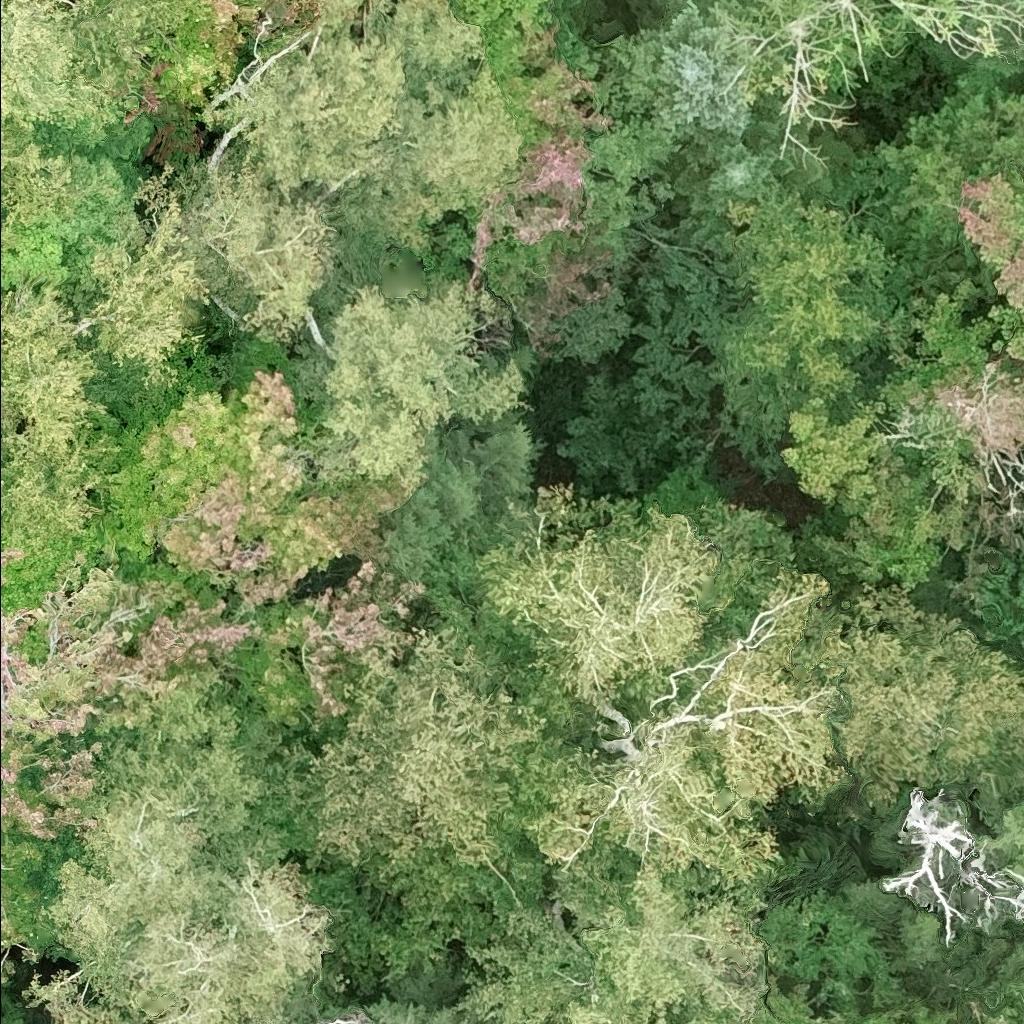crown: (470, 490, 858, 895), (259, 579, 592, 989), (0, 512, 267, 985), (19, 689, 336, 1023), (414, 14, 688, 367), (199, 0, 528, 284), (89, 333, 412, 615), (781, 282, 1023, 589), (453, 863, 840, 1023), (692, 180, 904, 441), (292, 276, 526, 489), (819, 581, 1023, 825), (211, 555, 429, 763), (0, 282, 128, 547), (69, 159, 211, 396), (179, 158, 339, 349), (0, 0, 201, 148), (877, 787, 1023, 951), (149, 0, 320, 118), (755, 886, 910, 1010), (671, 114, 831, 234), (0, 125, 133, 257), (627, 0, 753, 139), (955, 162, 1023, 369), (362, 959, 464, 1023), (958, 936, 1023, 1023), (455, 0, 544, 39), (301, 1008, 373, 1023), (0, 1003, 26, 1023)
